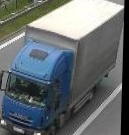truck: (0, 0, 125, 135)
